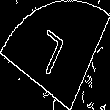L_SW: (35, 25, 75, 85)
